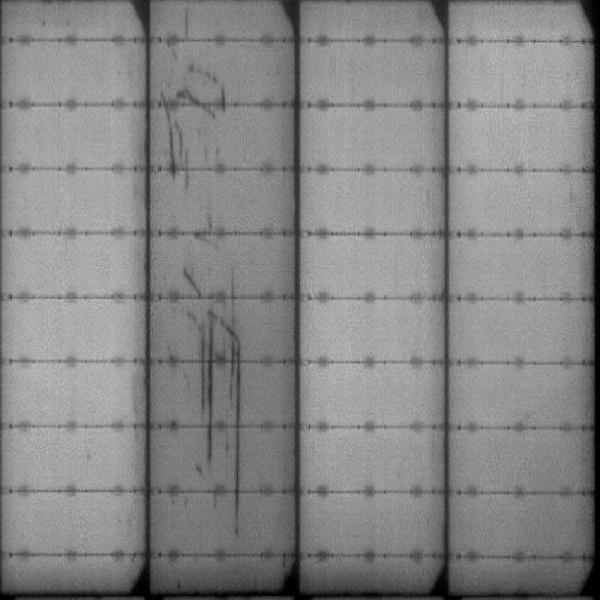scratch: (197, 318, 219, 461), (163, 108, 193, 210), (230, 334, 243, 528), (182, 64, 230, 116), (225, 269, 238, 328), (181, 267, 201, 296), (180, 1, 190, 39)
